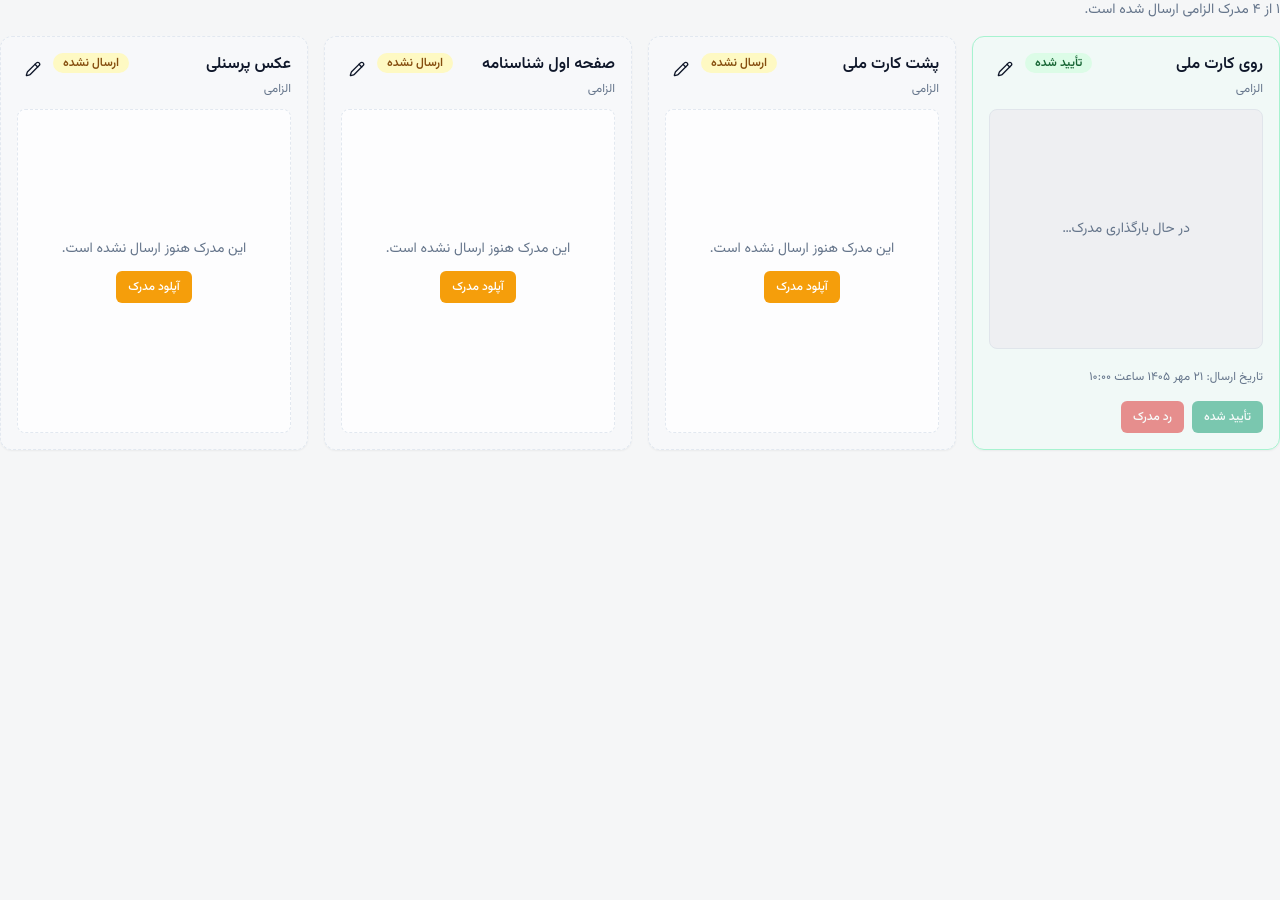
Scenario: KYC review › unlocks reject after staff reopens an approved document
The width and height of the screenshot is (1280, 900).
Check: the button "رد مدرک" is disabled, box [1121,401,1184,433]
Click the button named "عملیات روی کارت ملی" at (1005, 69), box [989,53,1021,85]
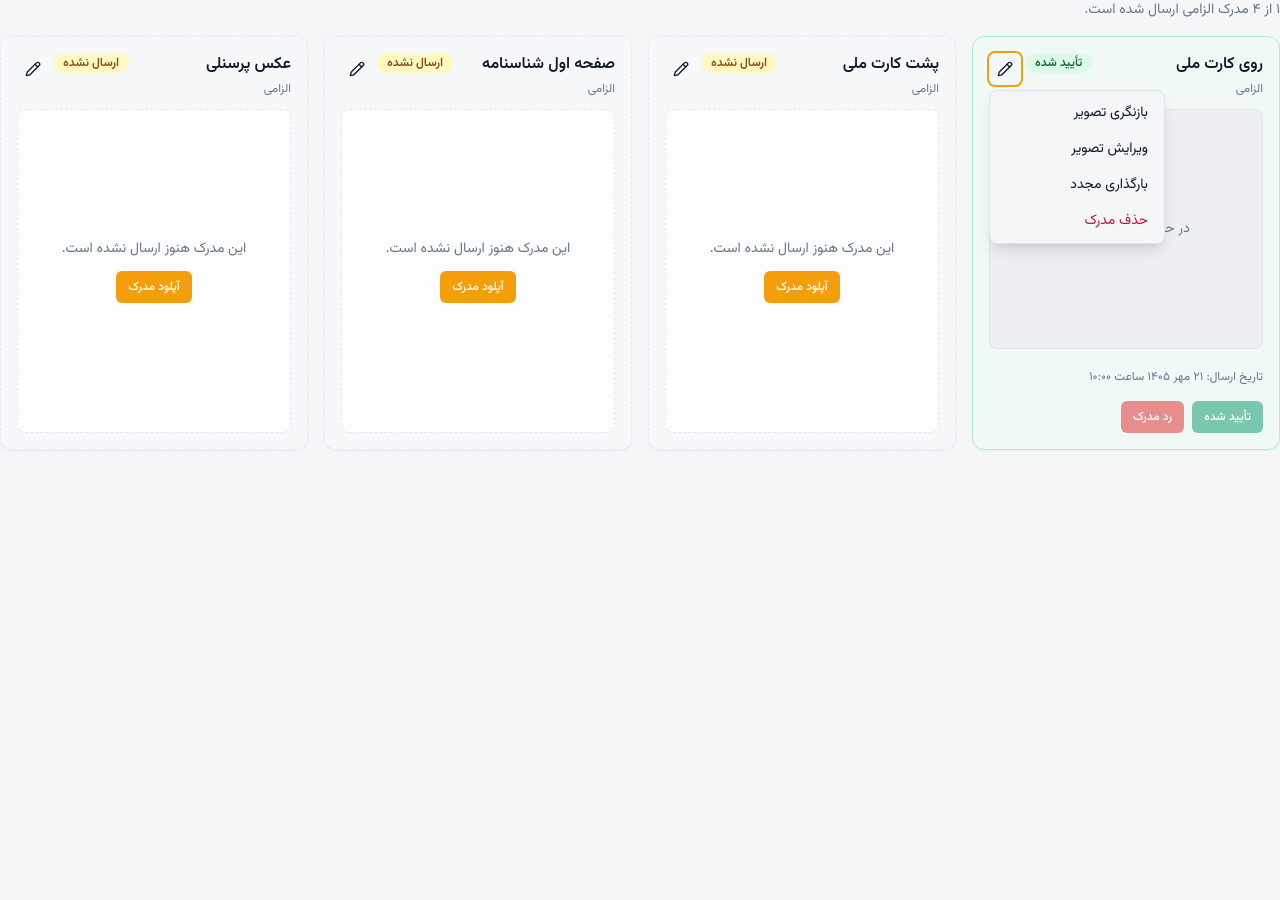
Click the menu item "بازنگری تصویر" at (1077, 113), box [994,95,1160,131]
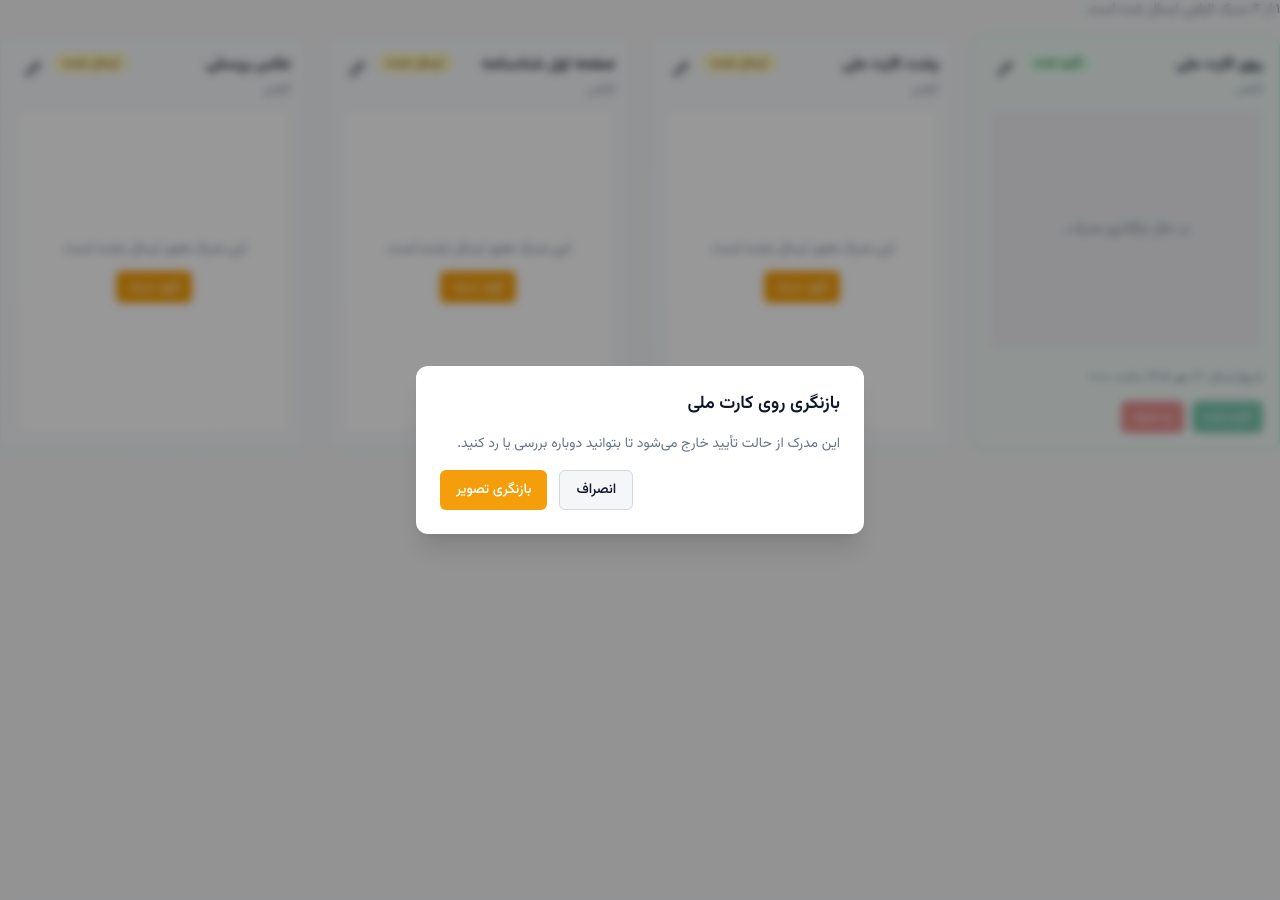
Click the button "بازنگری تصویر" at (494, 490), box [440,470,547,510]
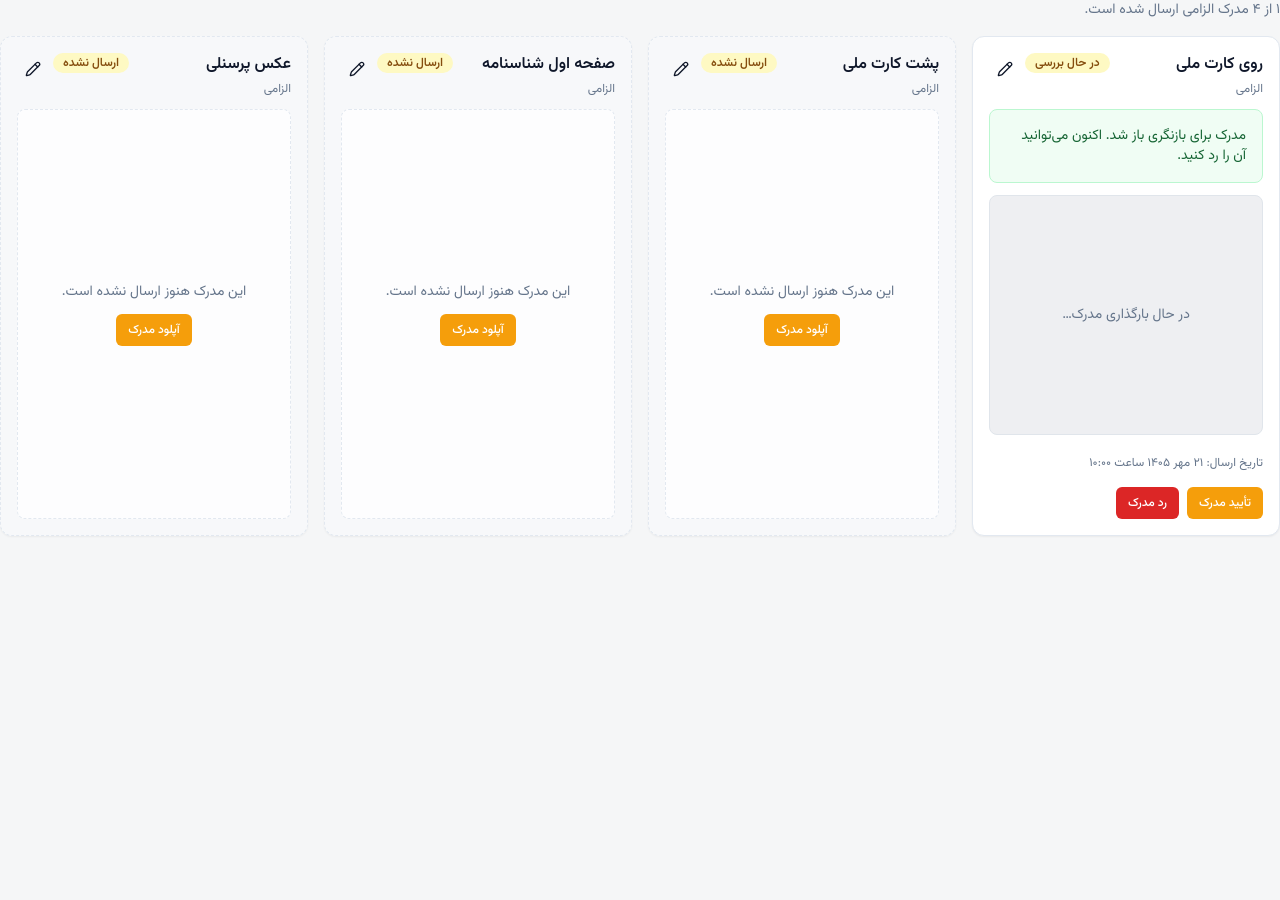
Check: the button "رد مدرک" is enabled, box [1116,487,1179,519]
